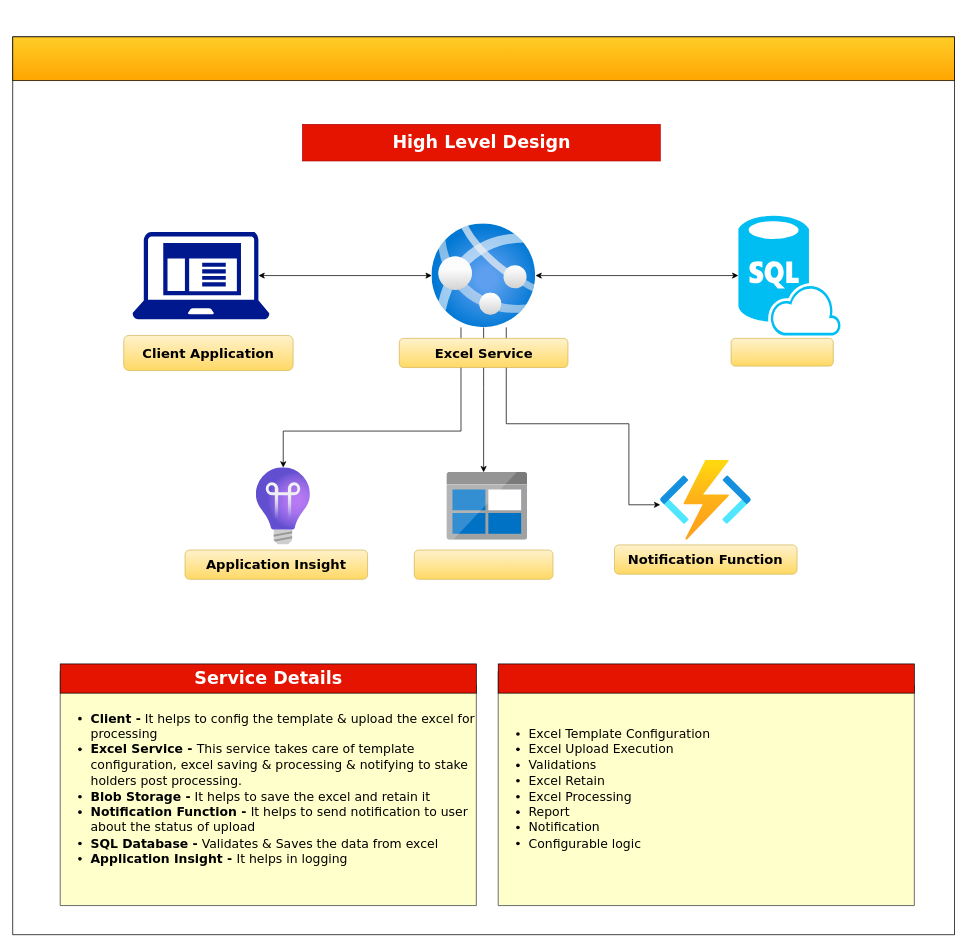
Image size: 967x948. Some labels were removed from this diagram. Here are the shapes that lost their labels. From the top down, the box of each, then its label:
(12, 36, 954, 81): Generic Excel Upload
(730, 338, 833, 366): Database
(414, 549, 553, 579): Blob Storage
(497, 663, 914, 693): Features
